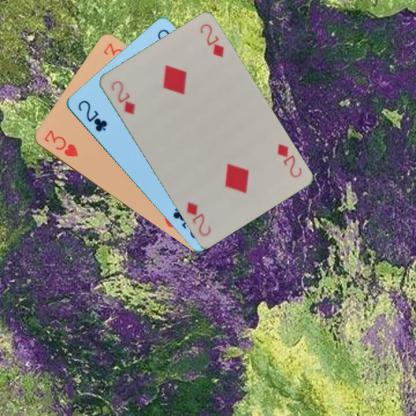2c: (74, 98, 108, 133)
2d: (274, 141, 303, 179), (108, 78, 136, 116)
3h: (41, 127, 79, 158)
